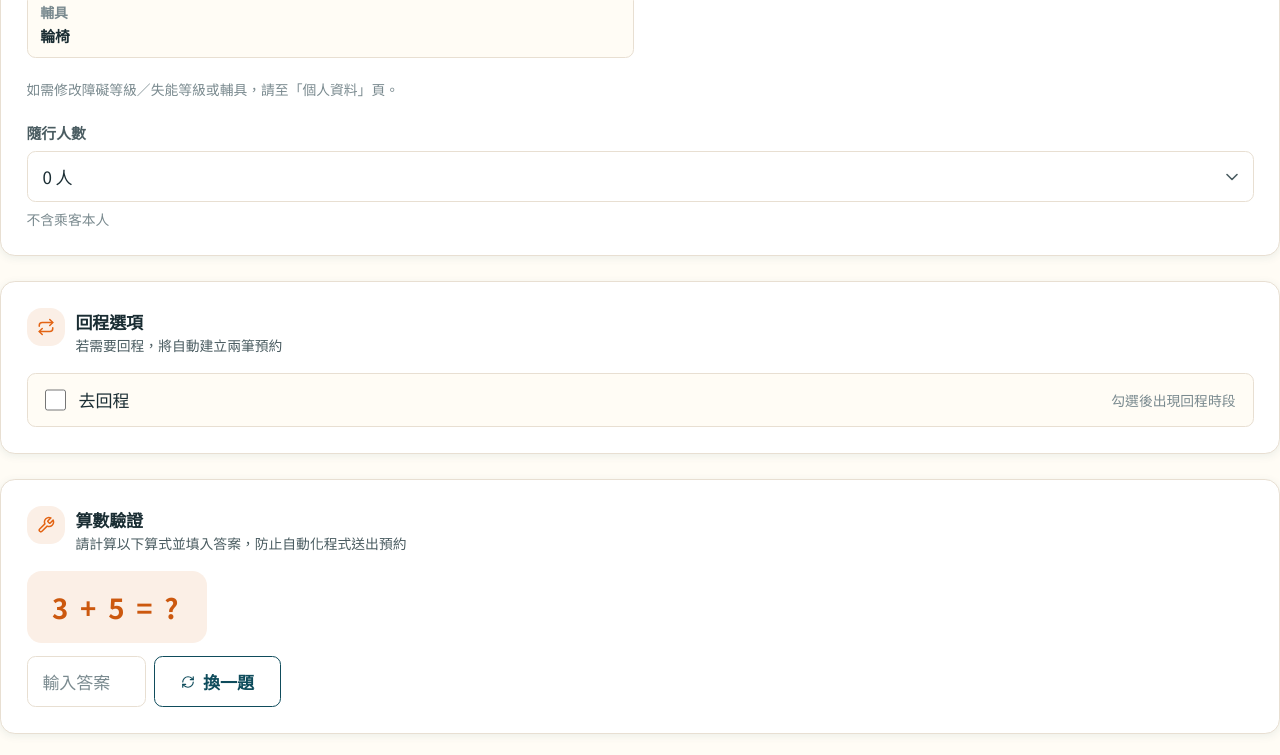
Test case: BookingForm › shows return pickup hour when 去回程 is checked
The width and height of the screenshot is (1280, 755).
(page scrolled)
Click the checkbox labelled "去回程" at coordinates (55, 400), box [44, 389, 66, 411]
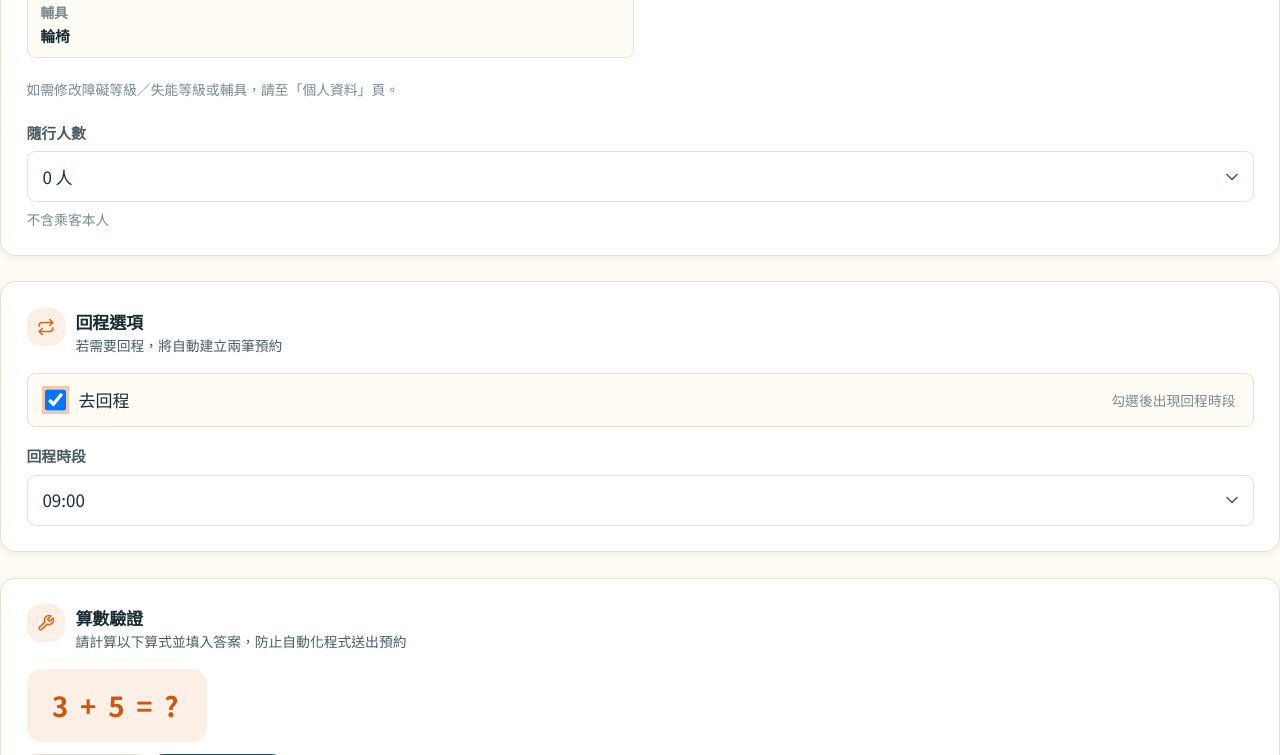
expect the dropdown labelled "回程時段" is shown: met, box [26, 474, 1254, 526]
